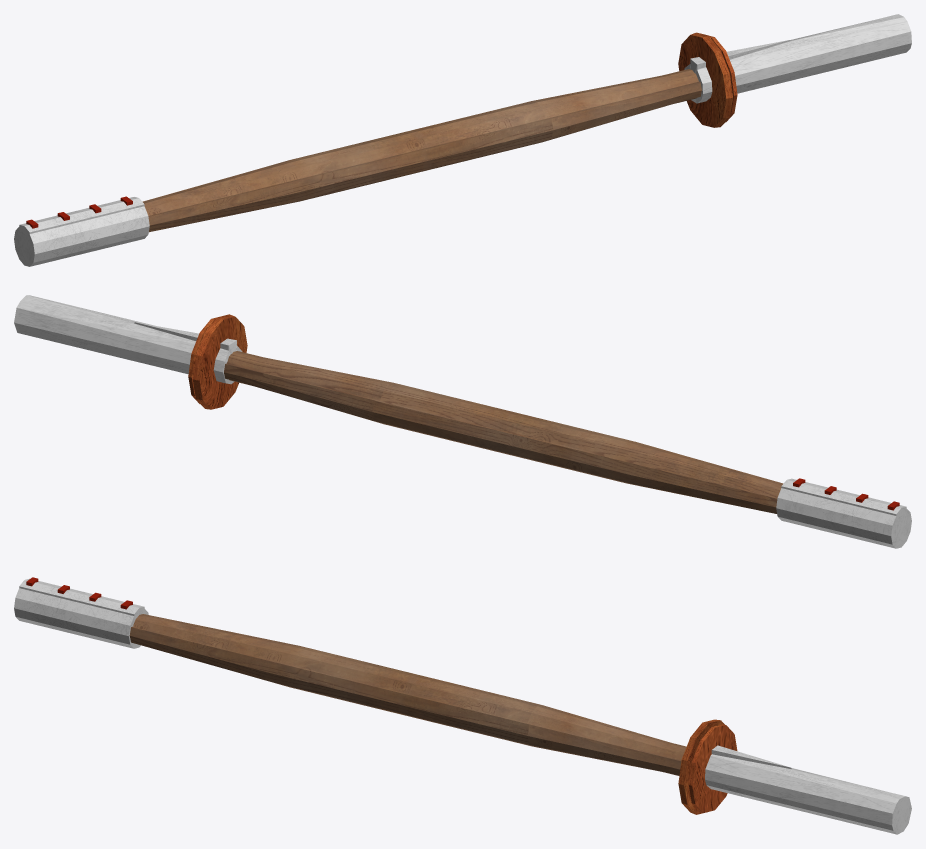
The model's file is Kendo.fbx.
The picture shows the model from 3 angles, top to bottom: view 1: azimuth 30°, elevation 25°; view 2: azimuth 150°, elevation 25°; view 3: azimuth 330°, elevation 25°; orthographic projection.
Visible parts, largest first — view 1: Cylinder.002, Cylinder, Cylinder.001; view 2: Cylinder.002, Cylinder, Cylinder.001; view 3: Cylinder.002, Cylinder, Cylinder.001.
Boxes of the visible parts, x1=… form: Cylinder.002: x1=14, y1=69, x2=701, y2=266; Cylinder: x1=684, y1=14, x2=911, y2=103; Cylinder.001: x1=678, y1=32, x2=737, y2=127; Cylinder.002: x1=224, y1=351, x2=911, y2=548; Cylinder: x1=14, y1=295, x2=242, y2=384; Cylinder.001: x1=188, y1=314, x2=247, y2=409; Cylinder.002: x1=14, y1=578, x2=686, y2=775; Cylinder: x1=705, y1=745, x2=911, y2=834; Cylinder.001: x1=678, y1=719, x2=737, y2=814.
Bounding box in the file's own units: 2229 × 215 × 215.
